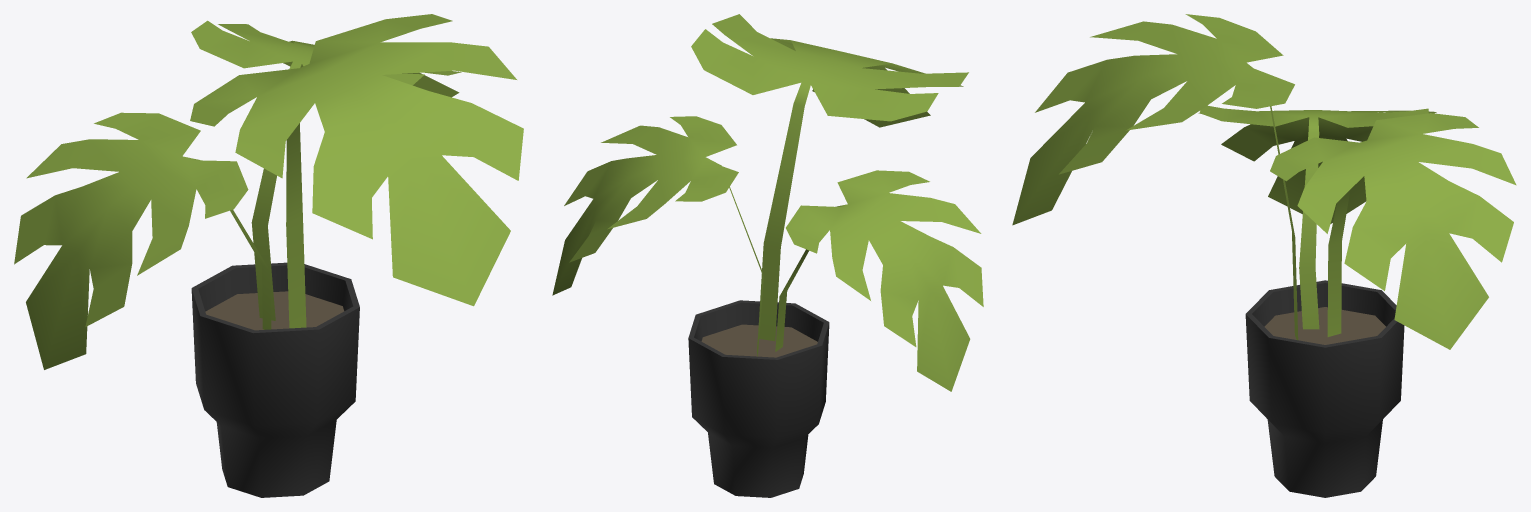
File: plant.fbx
The picture shows the model from 3 angles, left to right: view 1: azimuth 30°, elevation 25°; view 2: azimuth 150°, elevation 25°; view 3: azimuth 270°, elevation 25°; orthographic projection. The views are drawn at different scales.
Parts seen in each view (by area): view 1: Houseplant_1; view 2: Houseplant_1; view 3: Houseplant_1.
Part boxes in pixels (x1,y1,x2,y2): Houseplant_1: (14, 14, 523, 497); Houseplant_1: (552, 14, 983, 497); Houseplant_1: (1012, 14, 1516, 497).
Bounding box in the file's own units: 2.08 × 2.15 × 2.31.
